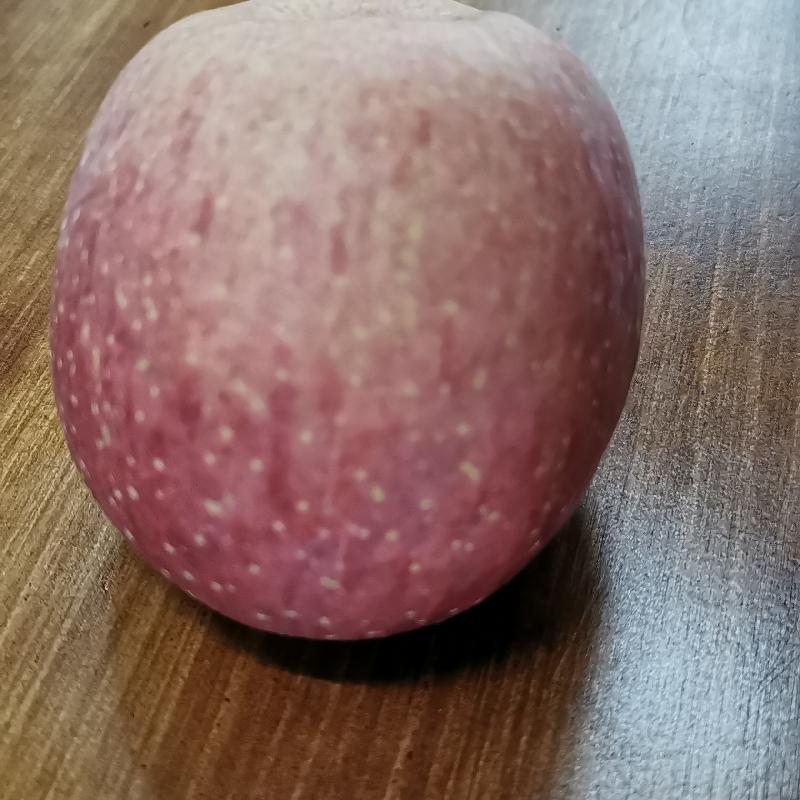apples: (42, 4, 652, 648)
